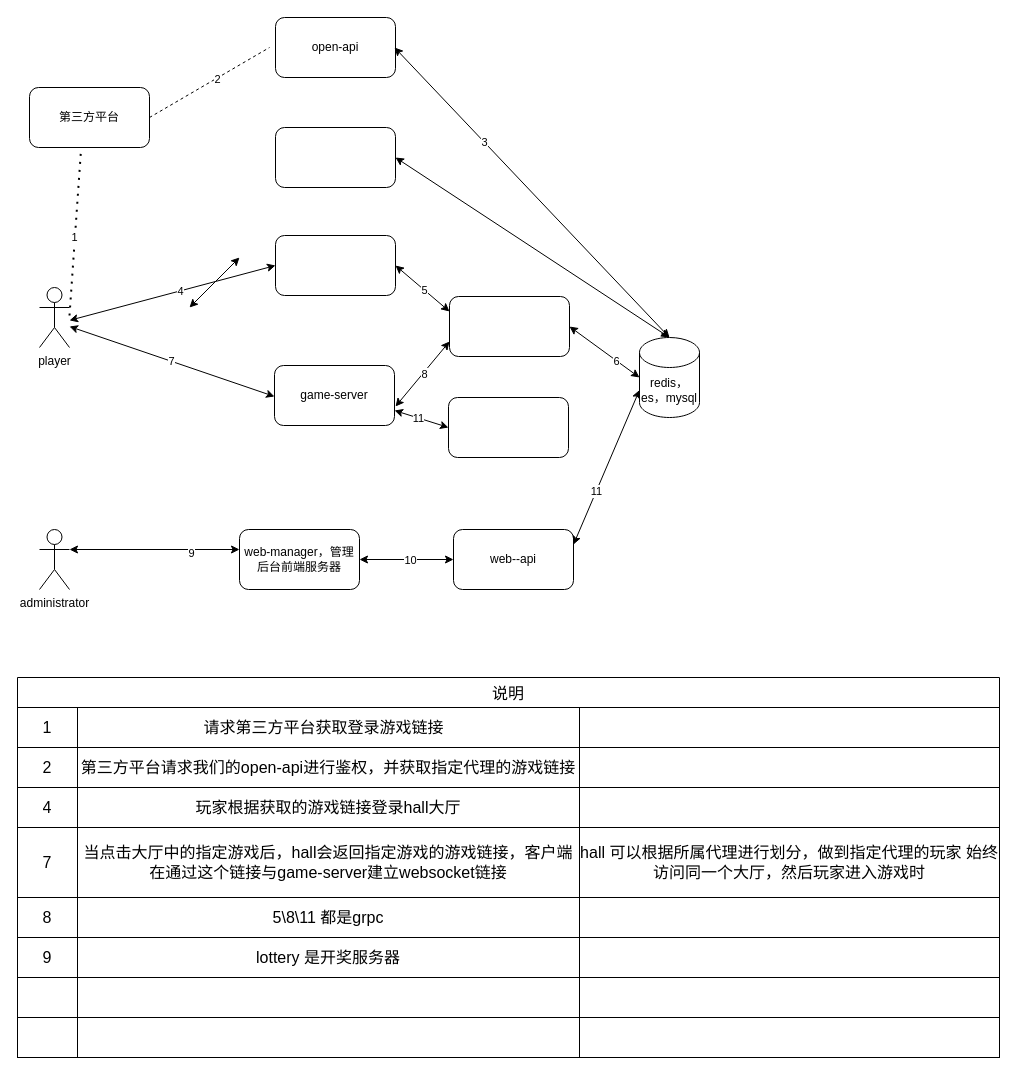
This 1017x1075 diagram has some shape labels left out. Here are the shapes that lost their labels. From the top down, the centre of each, then its label:
(335,157): match
(335,265): hall
(509,326): data-center
(508,427): lottery
